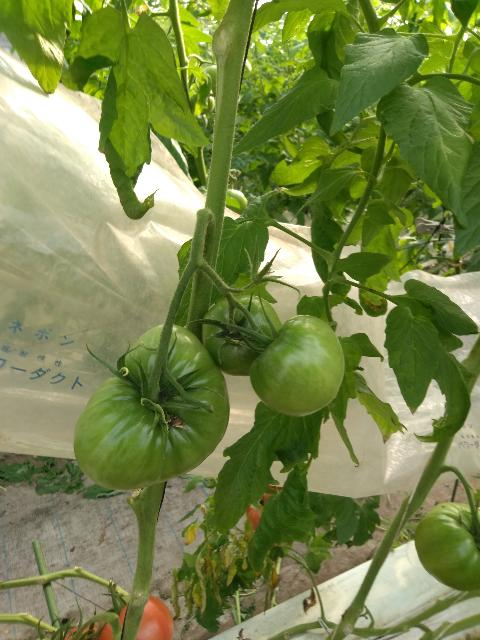b_fully_ripened: (98, 595, 174, 640), (65, 625, 101, 639)
b_green: (73, 323, 230, 490), (249, 314, 345, 417), (202, 295, 283, 376), (414, 502, 480, 591)
